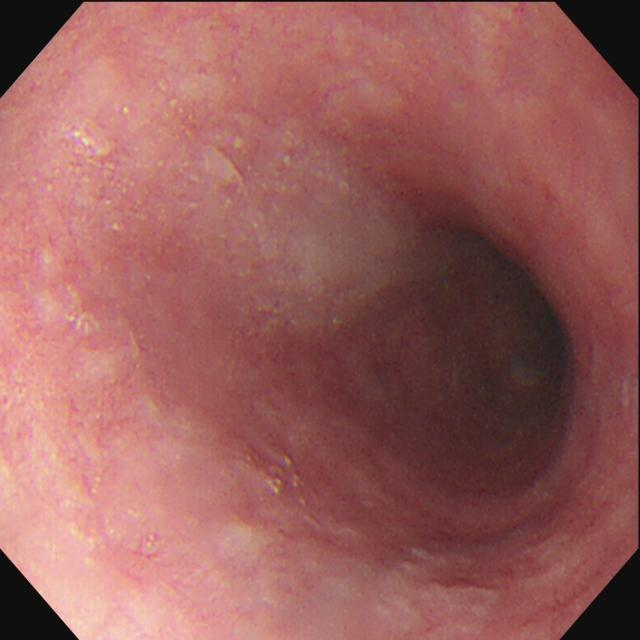E: (469, 219, 593, 464)
J: (200, 119, 425, 333), (266, 456, 302, 495)
